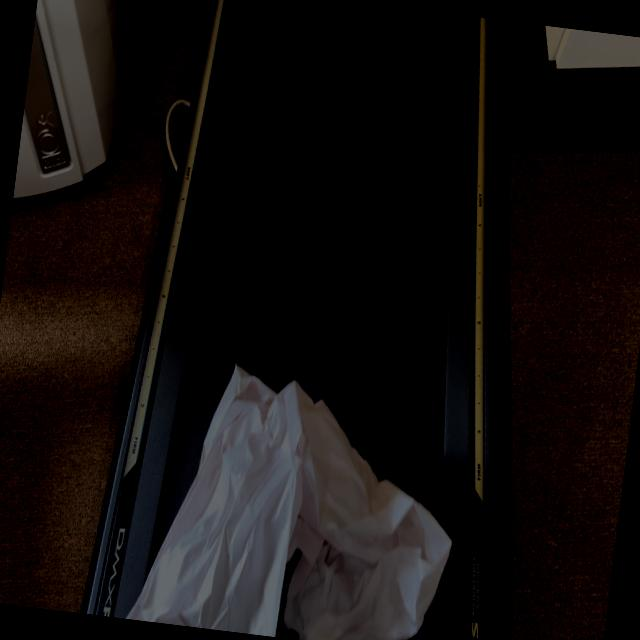Recycle: (126, 351, 471, 640)
